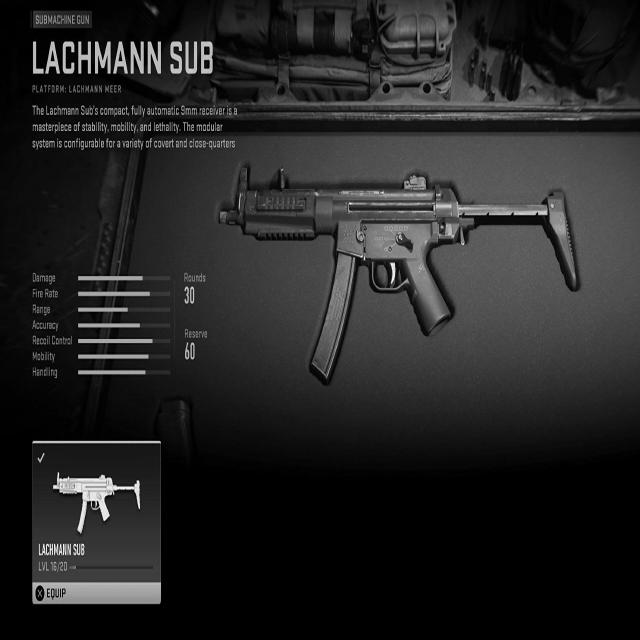Sub-machine-gun: (215, 152, 579, 386), (52, 466, 144, 541)
